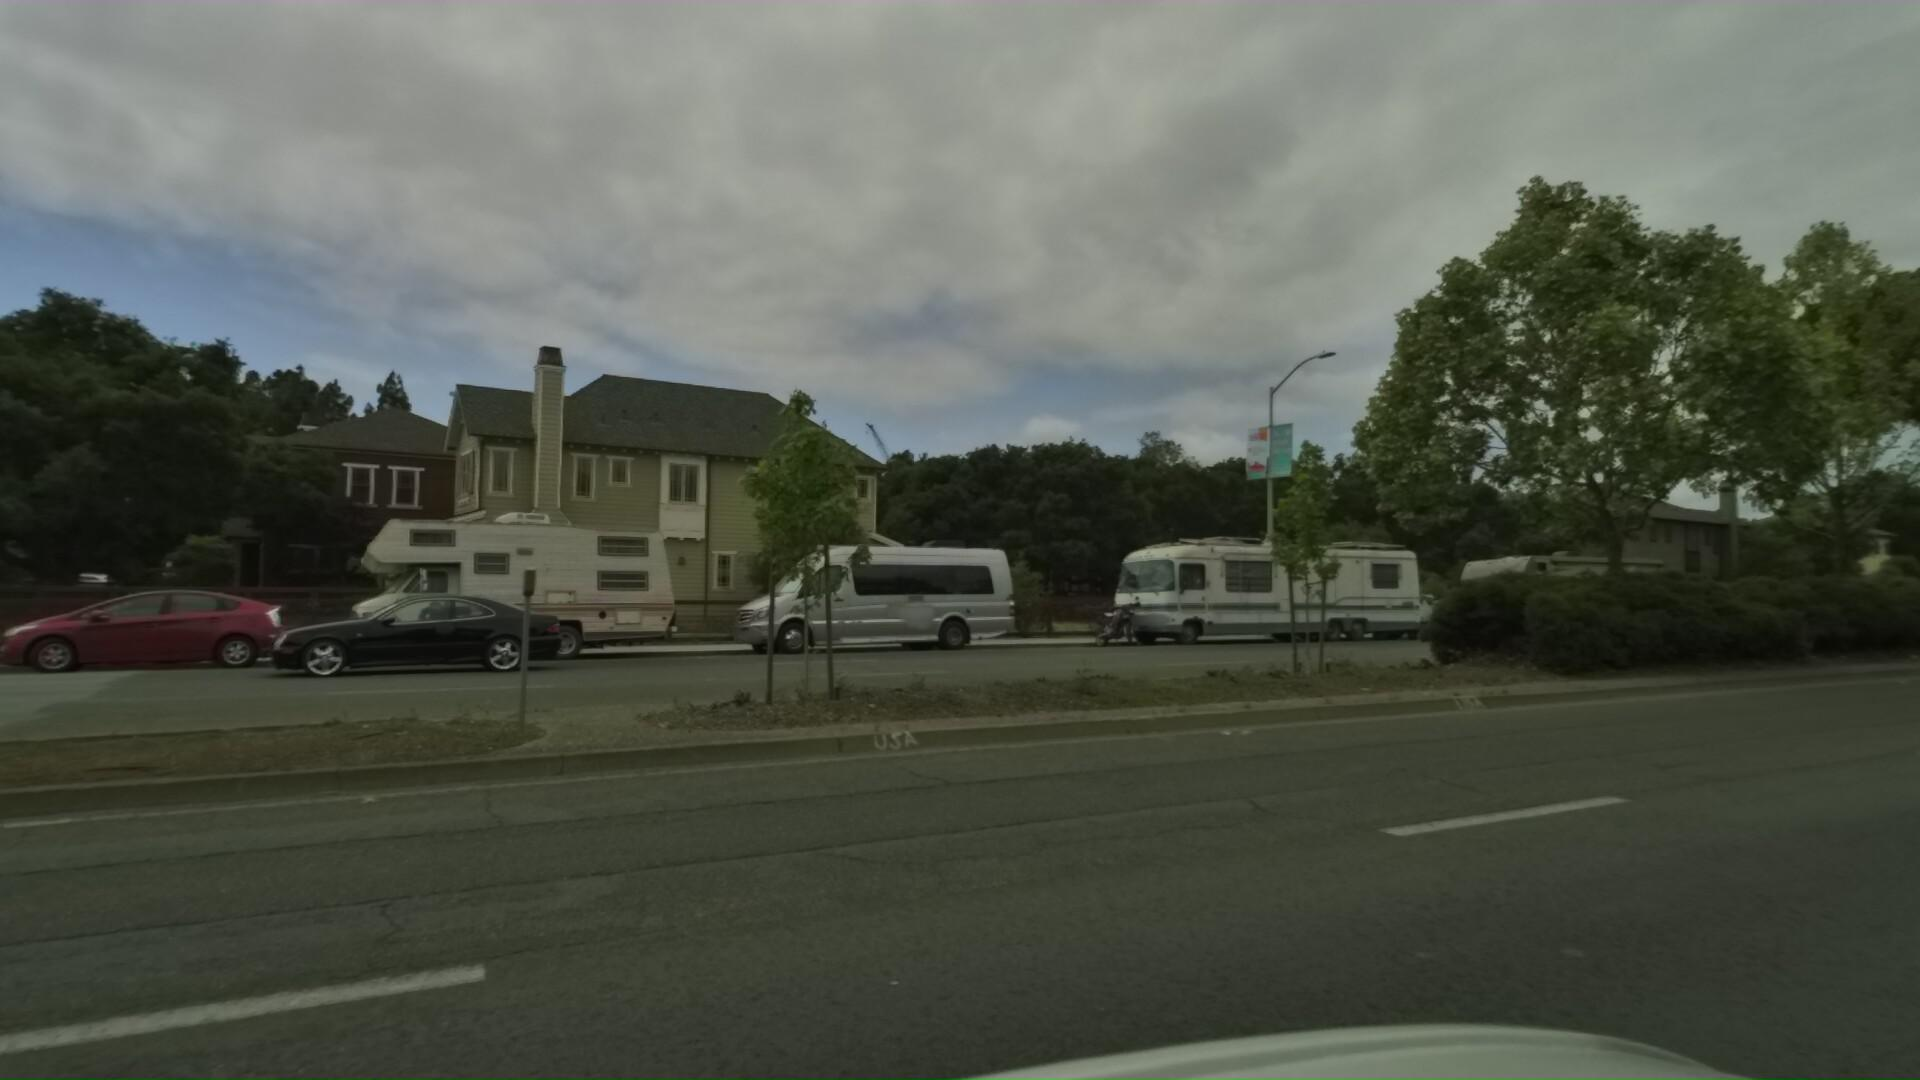car: (691, 520, 1010, 655), (212, 589, 525, 694), (0, 574, 264, 671)
motorcycle: (1059, 593, 1135, 644)
other_vehicle: (309, 495, 674, 665), (1079, 513, 1423, 644), (1427, 534, 1683, 632)
